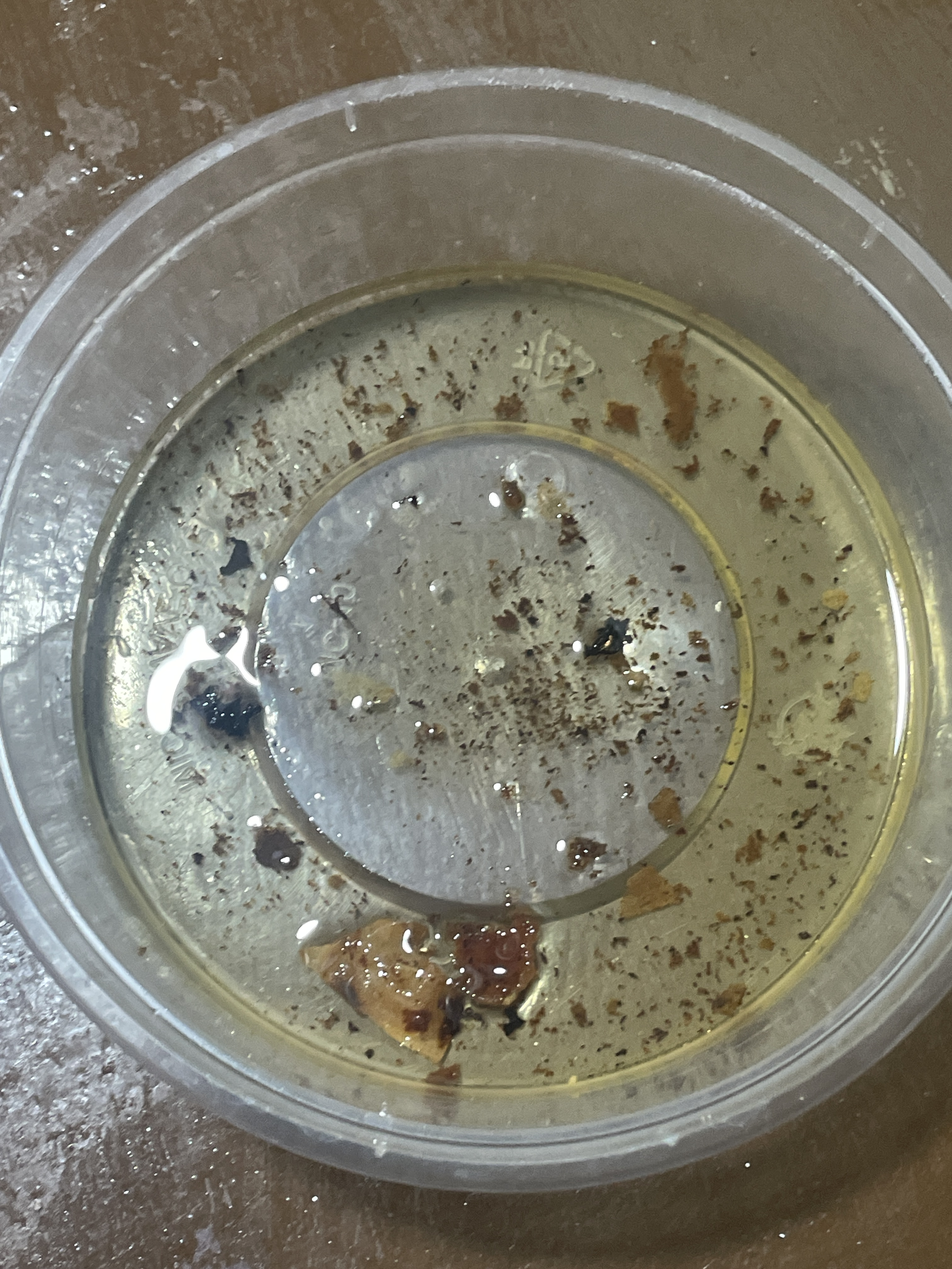non-reusable: (88, 277, 919, 1089)
